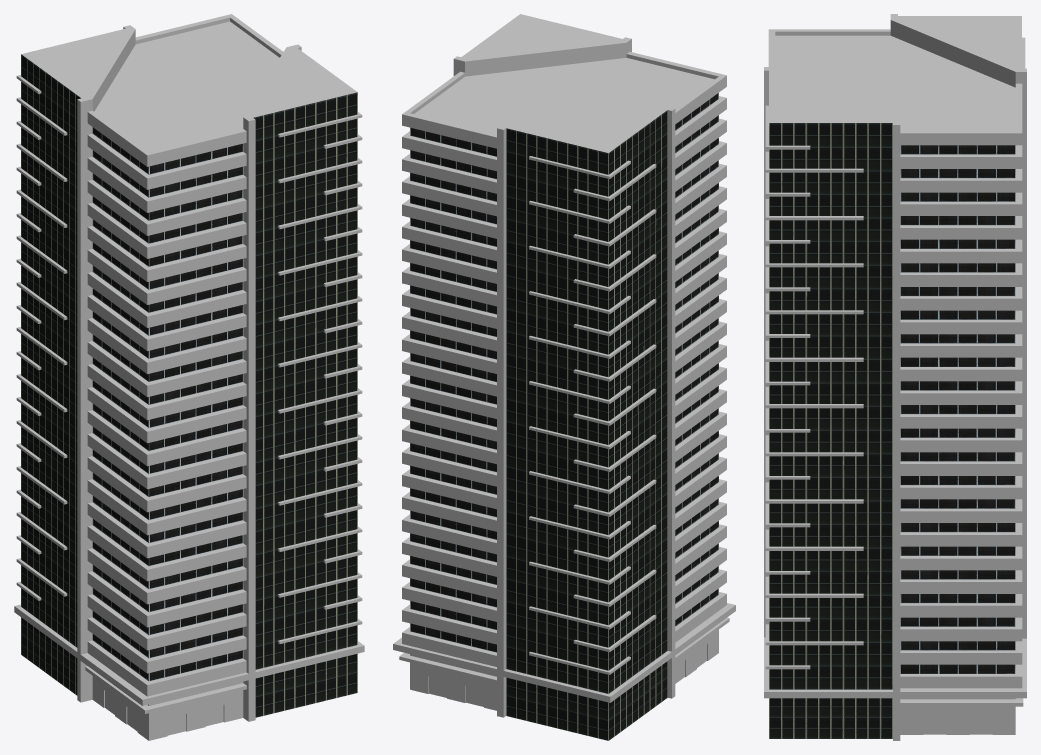
The picture shows the model from 3 angles, left to right: view 1: azimuth 30°, elevation 25°; view 2: azimuth 150°, elevation 25°; view 3: azimuth 270°, elevation 25°; orthographic projection. The views are drawn at different scales.
Parts seen in each view (by area): view 1: BC-P02; view 2: BC-P02; view 3: BC-P02.
Part boxes in pixels (x1=…): BC-P02: x1=14, y1=14, x2=364, y2=740; BC-P02: x1=393, y1=14, x2=735, y2=740; BC-P02: x1=764, y1=14, x2=1026, y2=740.
Size of what is drawn, in the model's own units: 33.35 by 86.21 by 33.35.
